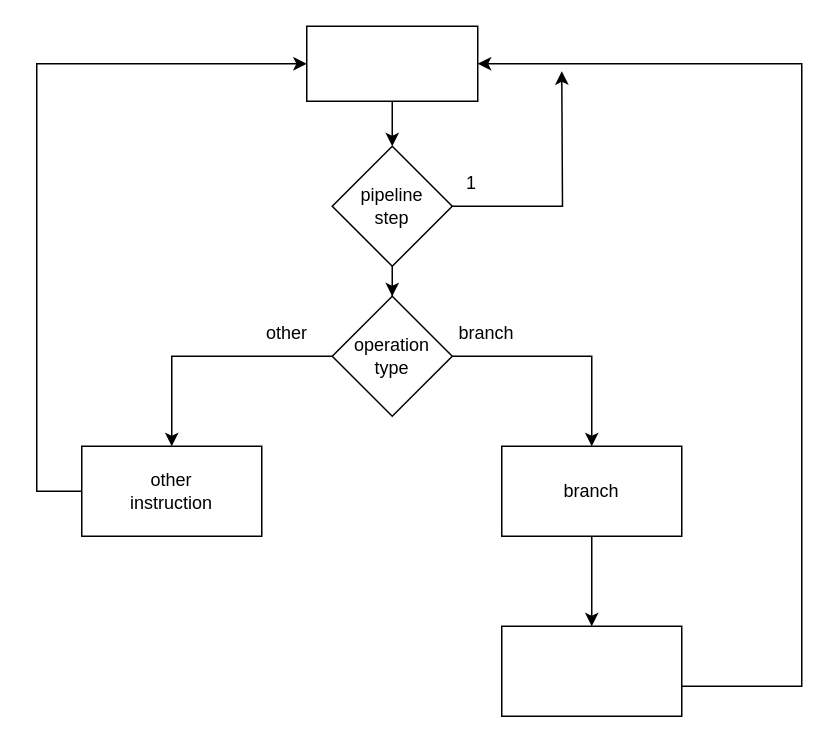
The diagram is 840 pixels wide and 743 high, and some of its shapes have lost their labels. Each missing label, with the centre of its shape:
address calculation: [591,670]
step wait: [391,63]
